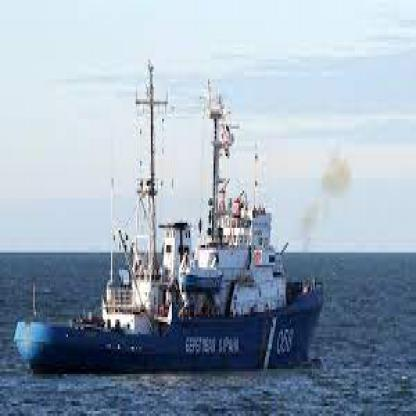fish-b: (10, 52, 327, 379)
